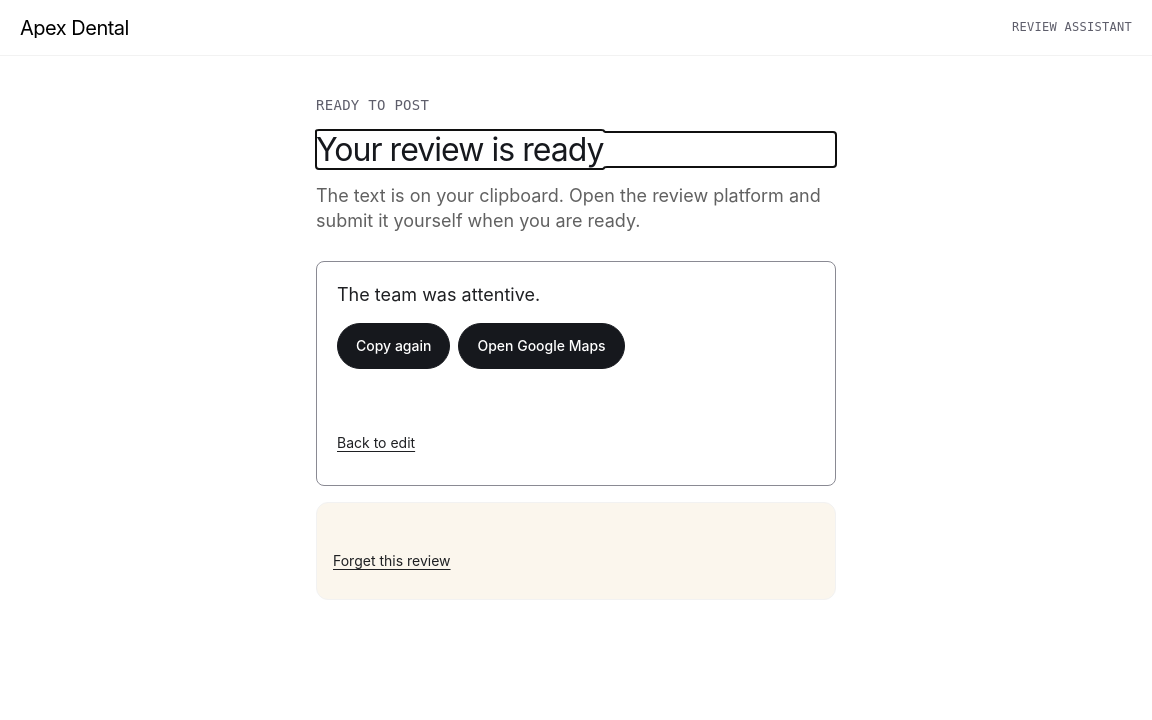
it: reviewer application routes › rehydrates persisted Done and keeps a manual Copy Again fallback
The image size is (1152, 720).
Expected: the heading "Your review is ready" is shown, left=316, top=130, right=604, bottom=169
Expected: the text "The team was attentive." is shown, left=337, top=284, right=540, bottom=305
Click the button "Copy again".
click(394, 346)  # box left=337, top=323, right=450, bottom=369
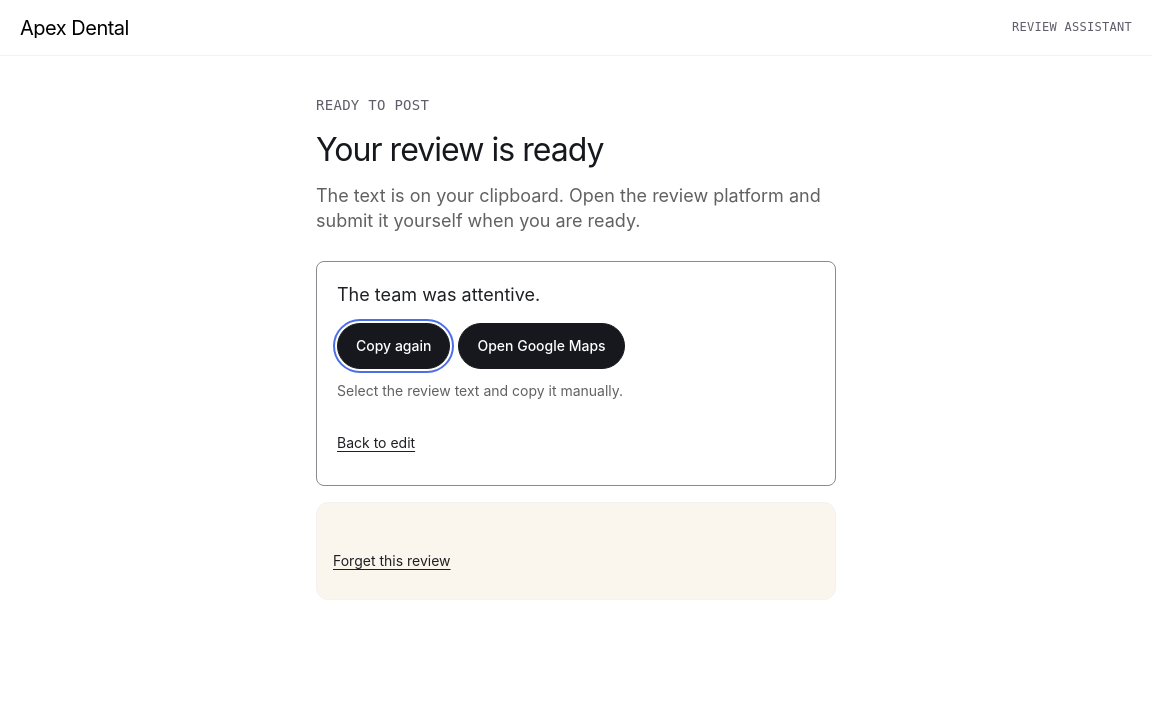
Now the text "Select the review text and copy it manually." is shown, box left=337, top=382, right=623, bottom=399
